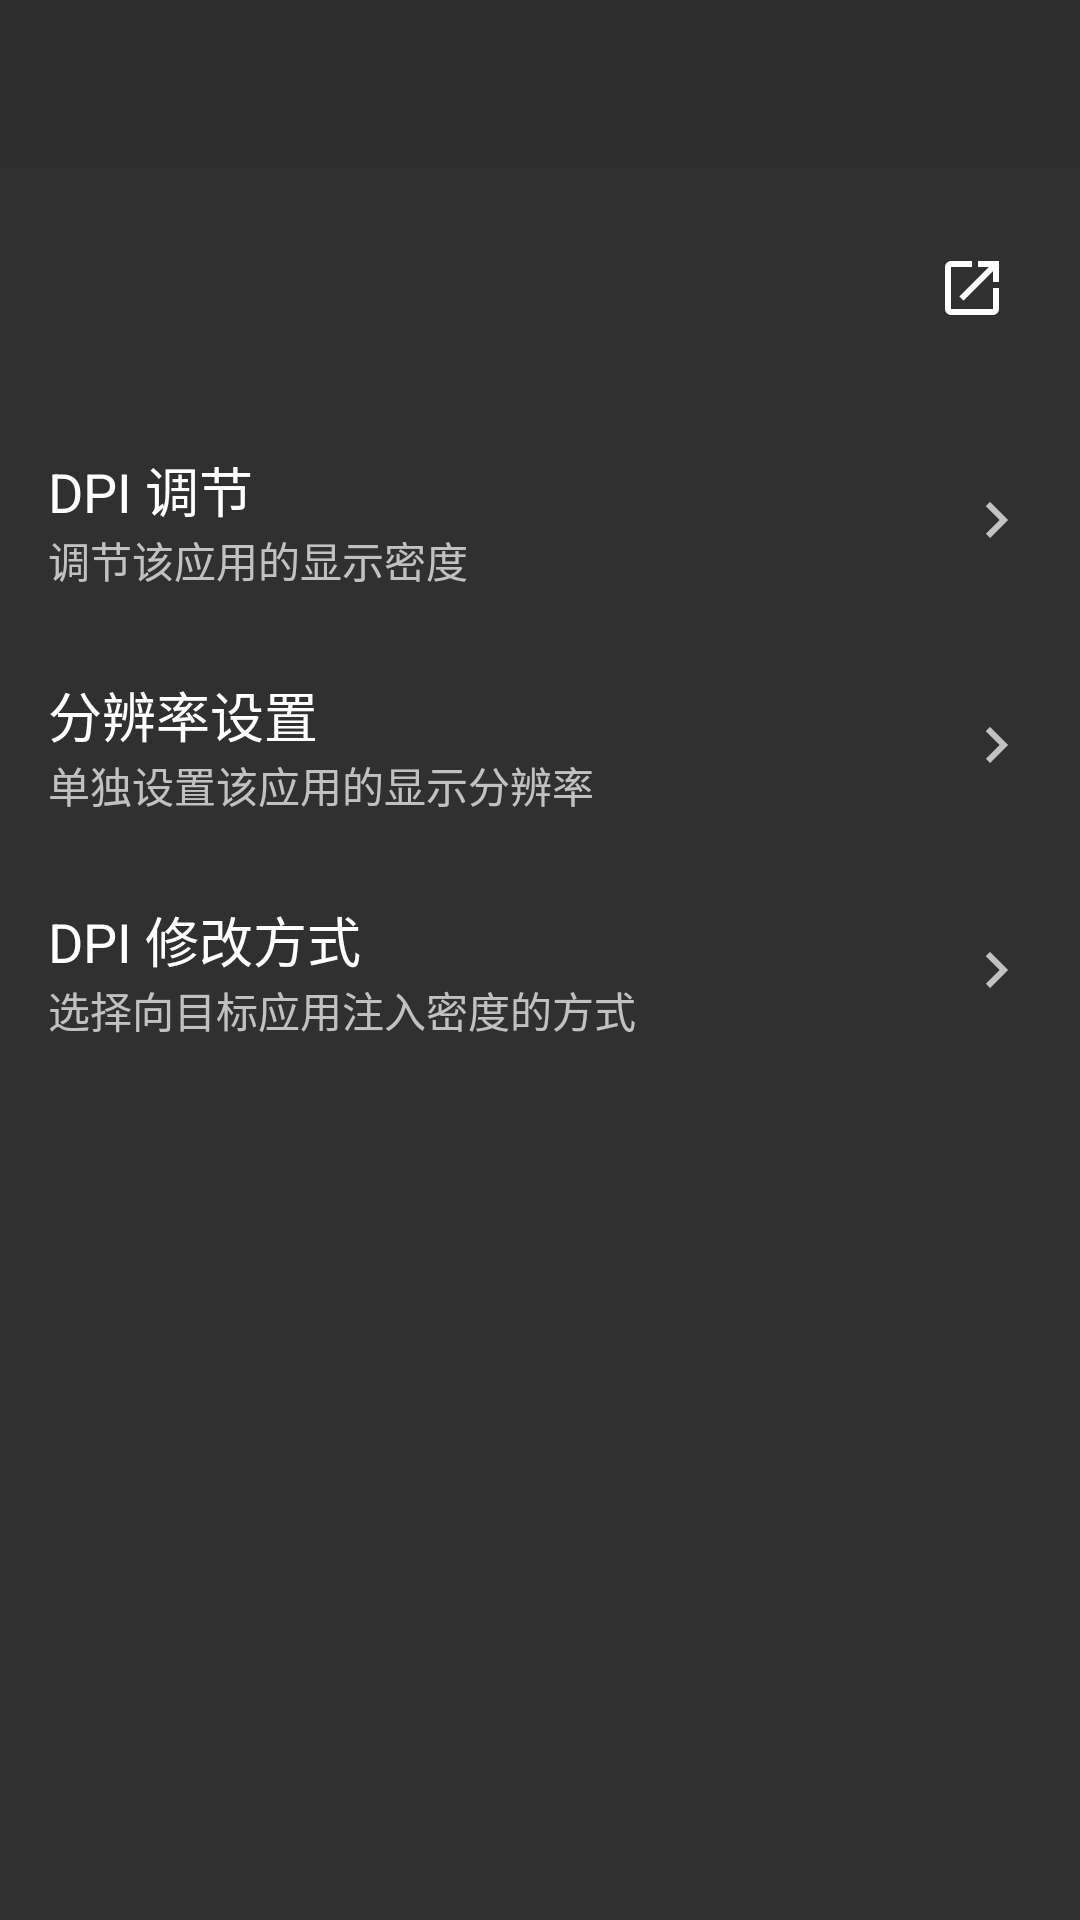

Icons on this 1080px×1920px Android screen, each with its box as (x1, y1, x2, y2):
chevron right: (986, 502, 1008, 538), (986, 727, 1008, 763), (986, 952, 1008, 988)
打开: (945, 261, 999, 315)
